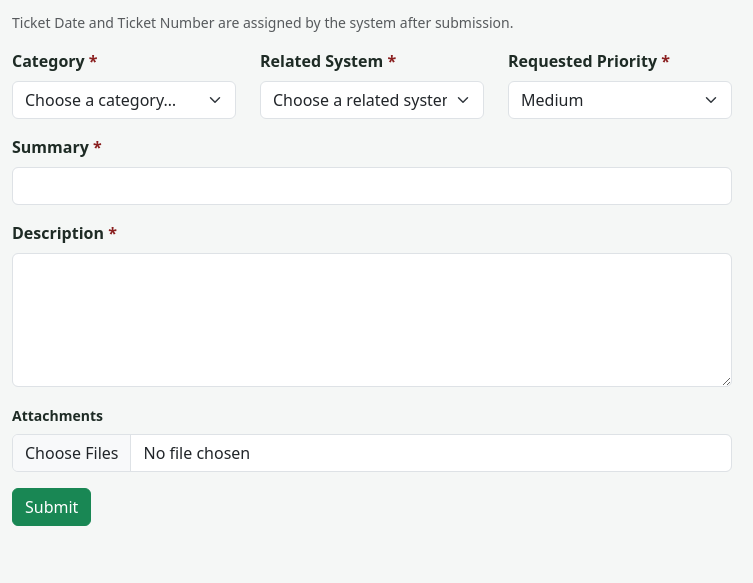
Test: Form preservation after a recoverable failure (FR-18, BR-29) › UI-22 keeps every Create Ticket value after a network failure
Step 1. Select "Hardware" in the dropdown labelled "Category *" → {"x": 124, "y": 100}, box 12,81 -> 236,119
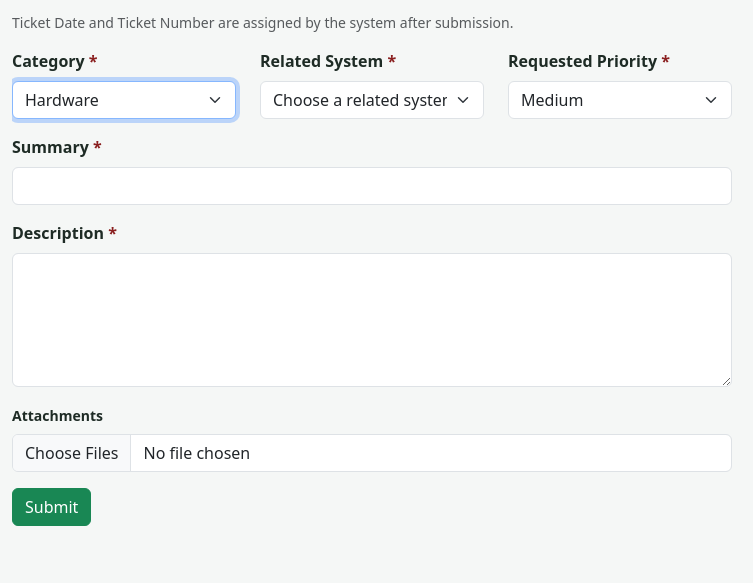
Step 2. Select "Printer" in the dropdown labelled "Related System *" → {"x": 372, "y": 100}, box 260,81 -> 484,119
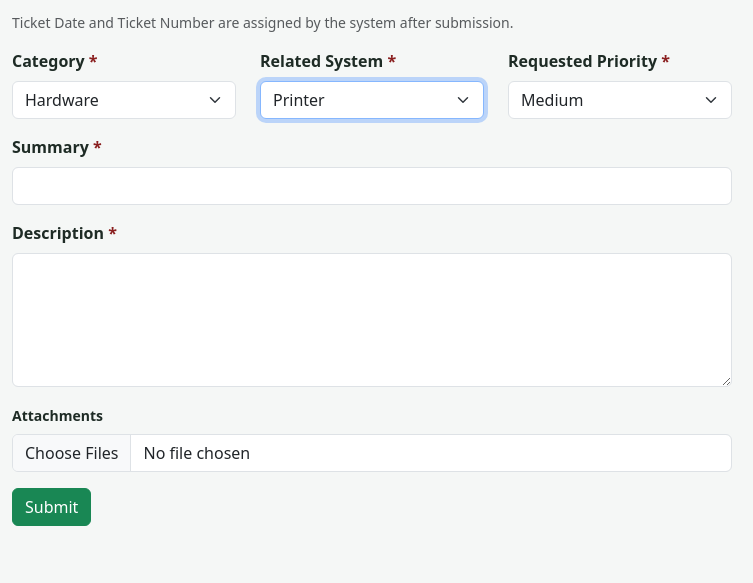
Step 3. Type "Printer jams on every job" into the field labelled "Summary *" → {"x": 372, "y": 186}, box 12,167 -> 732,205
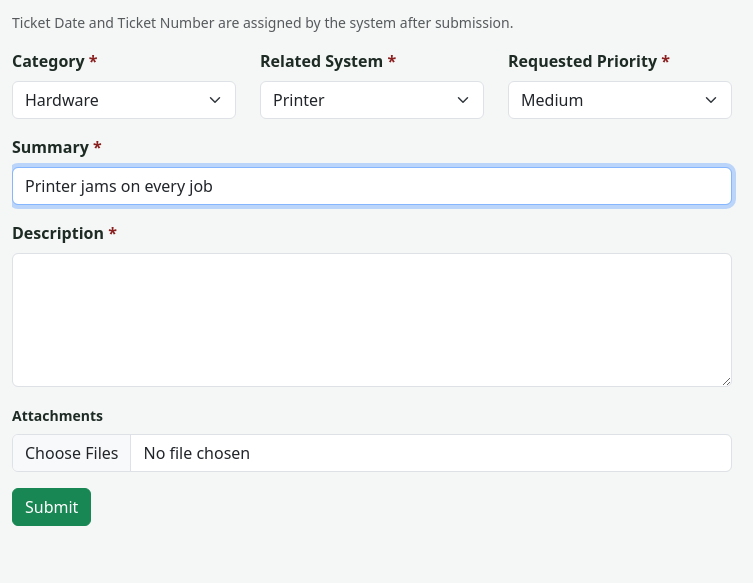
Step 4. Type "Paper gets stuck in tray two every time." into the text box labelled "Description *" → {"x": 372, "y": 320}, box 12,253 -> 732,387
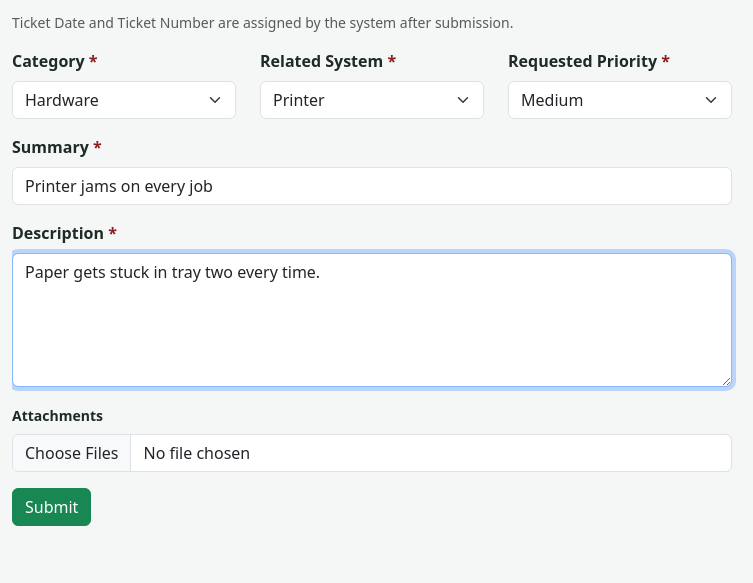
Step 5. Click the button "Submit" → {"x": 52, "y": 507}, box 12,488 -> 91,526
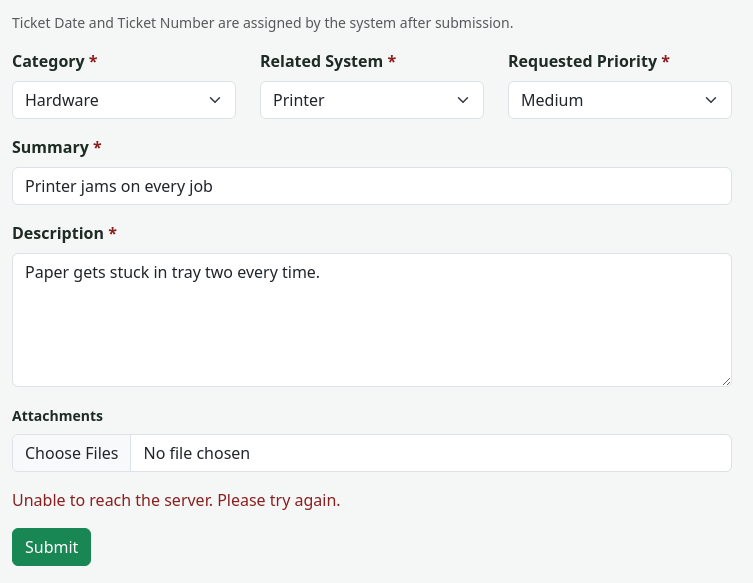
Result: the text "Unable to reach the server. Please try again." is shown at 12,489 -> 341,511
